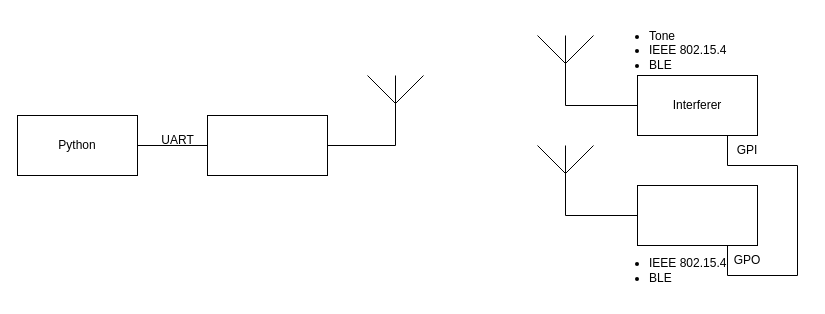
Image size: 825x314. Some labels were removed from this diagram. Here are the shapes that lost their labels. From the top down, the centre of each, then its label:
At pixel 267 145: "RX gateway".
At pixel 697 215: "TX link".
